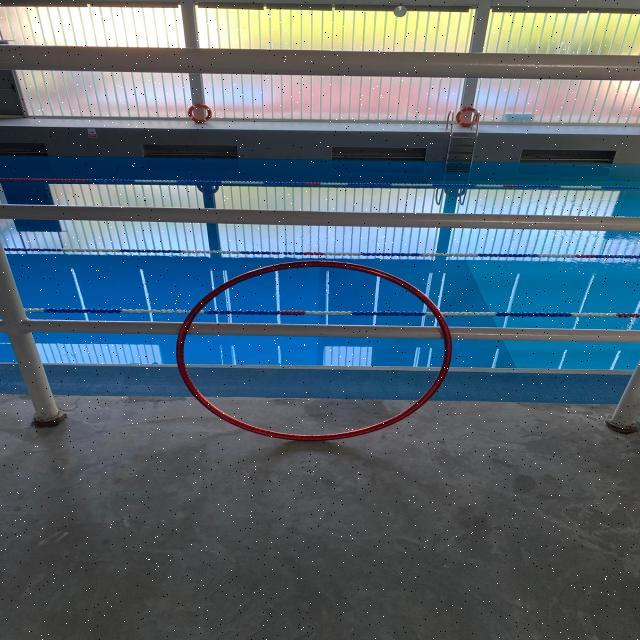Circle: (174, 259, 454, 442)
